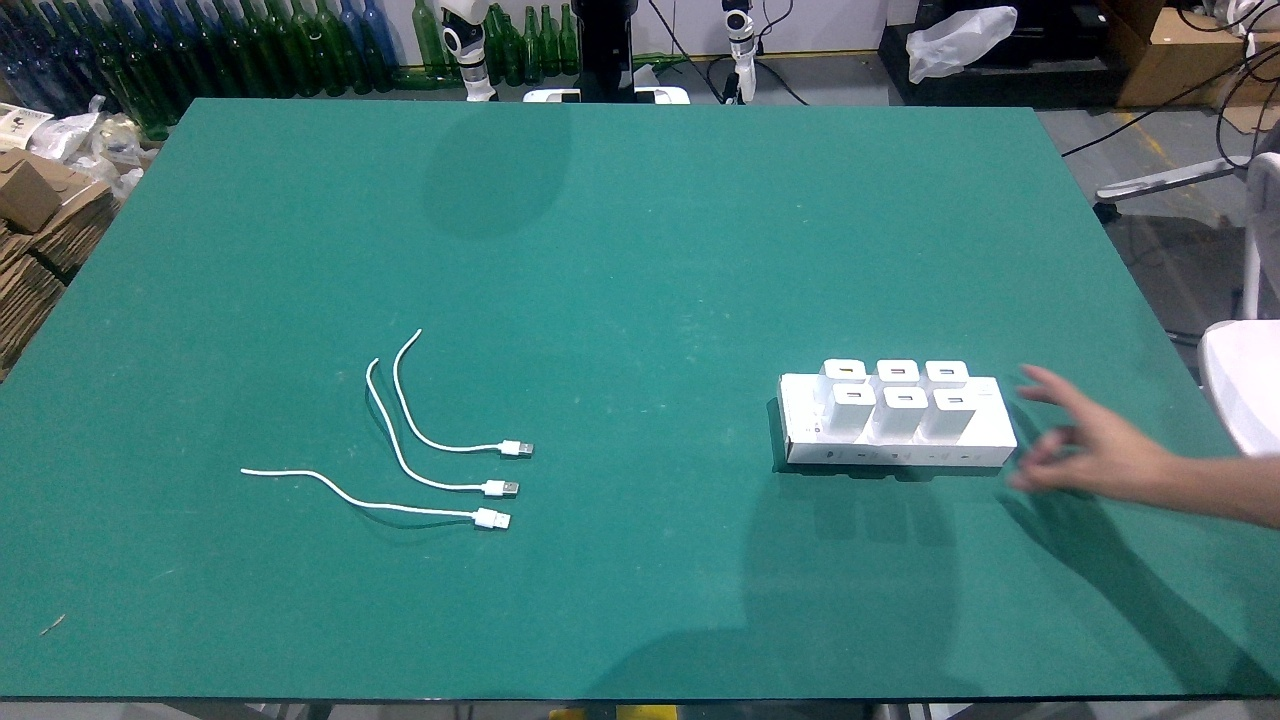usb_a_plug: (453, 504, 519, 532), (484, 436, 538, 459), (470, 480, 519, 498)
